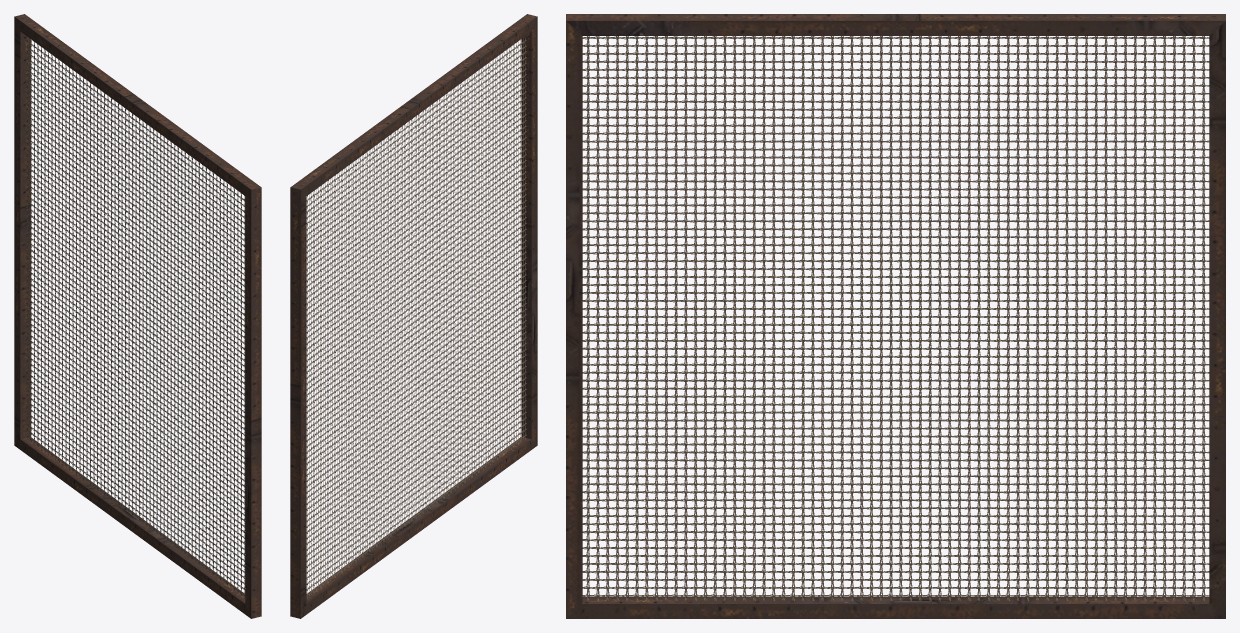
File: fence_frame_01.DAE
The picture shows the model from 3 angles, left to right: view 1: azimuth 30°, elevation 25°; view 2: azimuth 150°, elevation 25°; view 3: azimuth 270°, elevation 25°; orthographic projection. The views are drawn at different scales.
Parts seen in each view (by area): view 1: Plane006, Box004; view 2: Plane006, Box004; view 3: Plane006, Box004.
Part boxes in pixels (x1,y1,x2,y2): Plane006: (25, 36, 245, 598); Box004: (14, 14, 261, 618); Plane006: (306, 36, 526, 598); Box004: (290, 14, 537, 618); Plane006: (582, 36, 1209, 600); Box004: (566, 14, 1225, 618).
Size of the model in its own units: 0.1 by 4 by 4.
